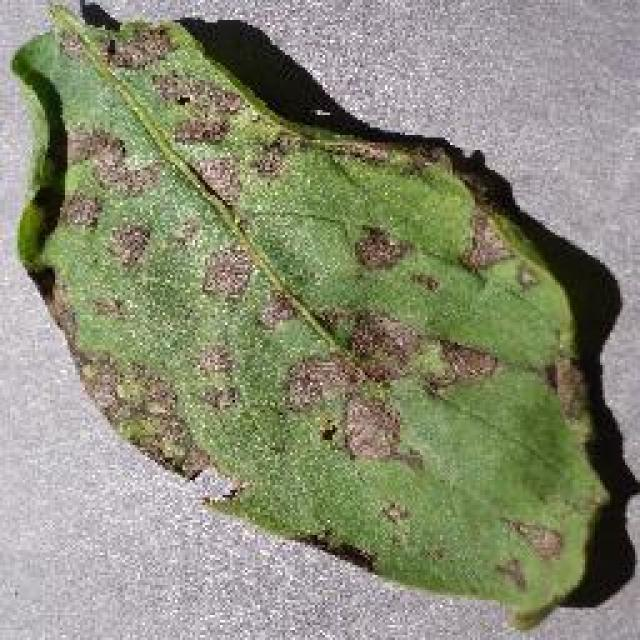Potato___Early_blight: (7, 3, 617, 634)
